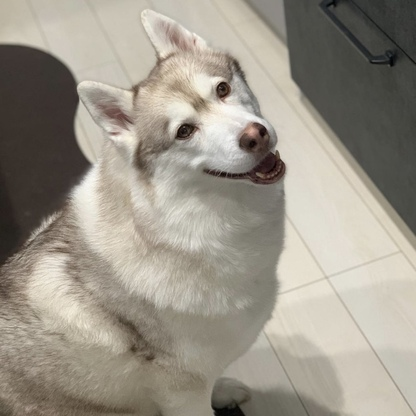husky: (1, 4, 294, 416)
